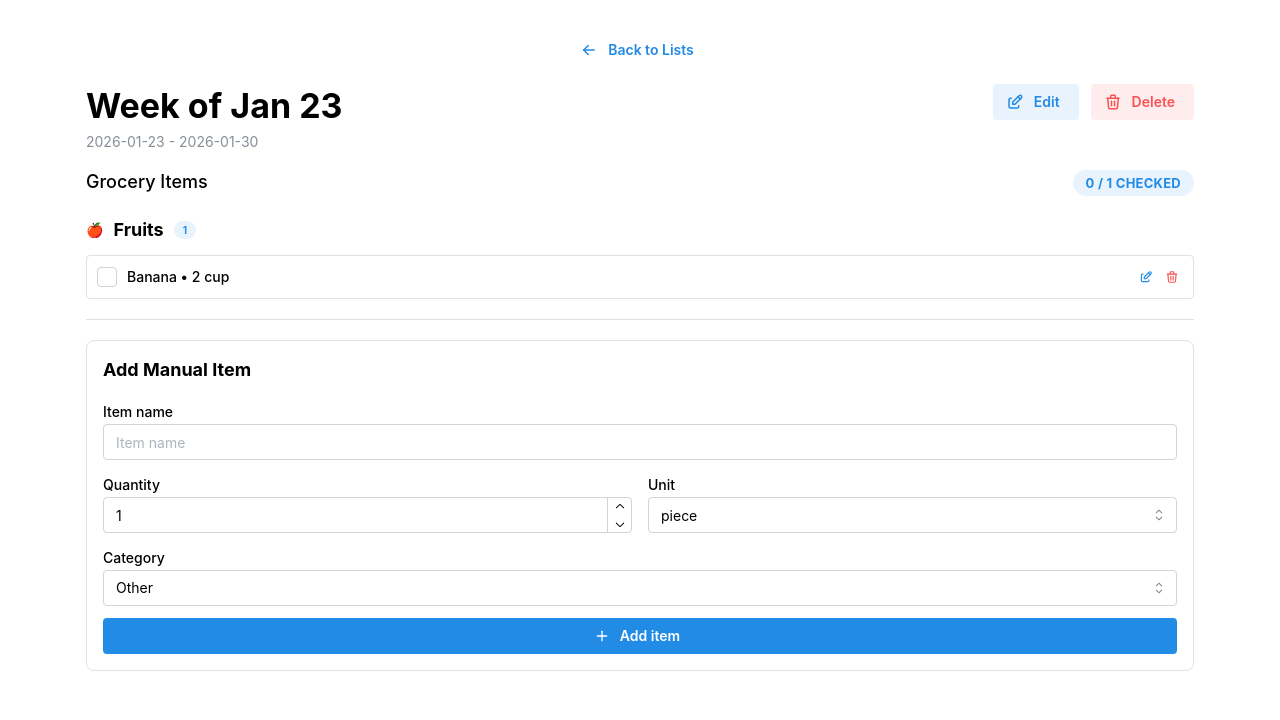
Test: GroceryListDetailPage › Edit List Name › should update list name when save is clicked
Click the button with test id "edit-list-button".
click(1036, 102)  # box [993,84,1079,120]
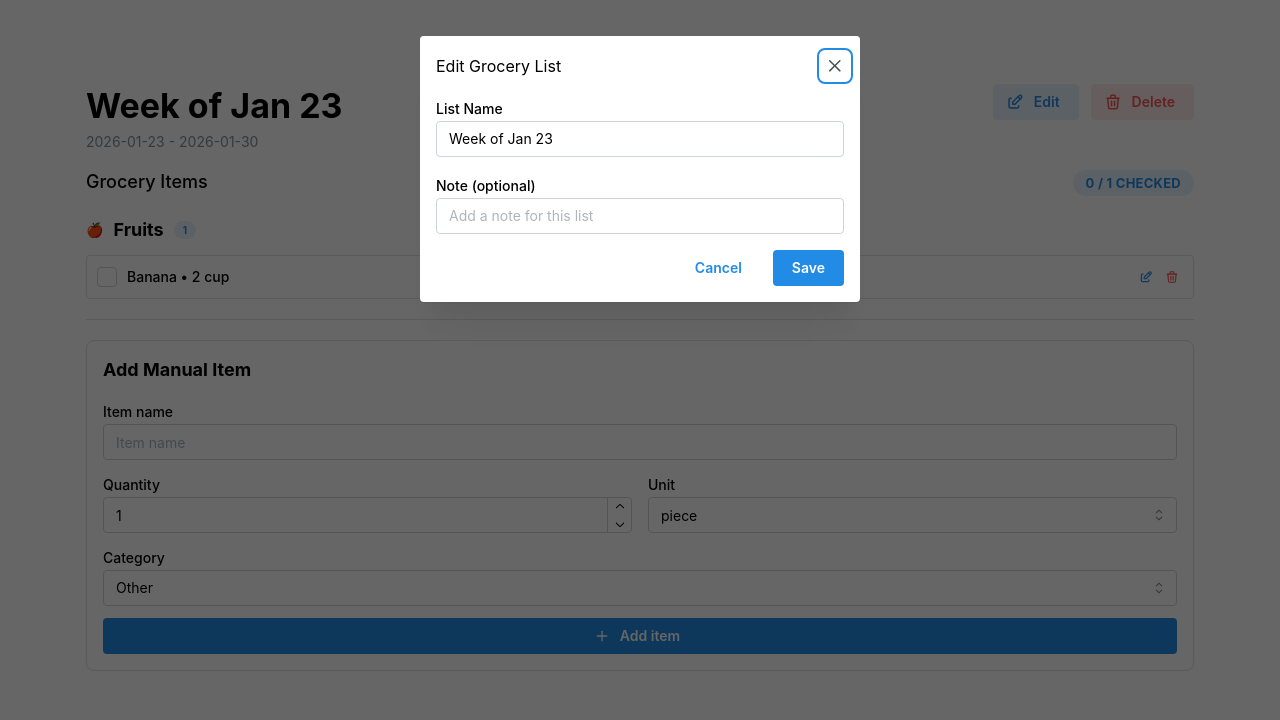
Expected: the heading "Edit Grocery List" is shown, [436,58,561,74]
Replace the text in the field labelled "List Name" with "New List Name" at (640, 139), box [436,121,844,157]
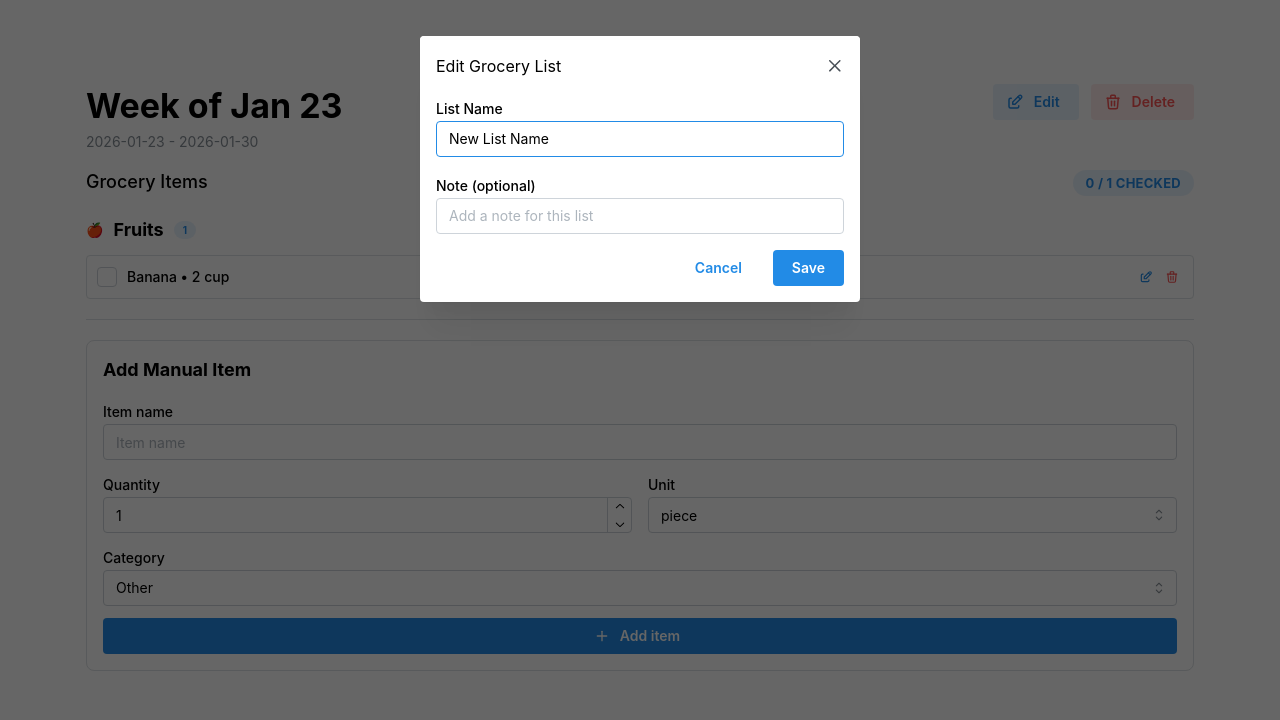
Click the button "Save".
click(808, 268)  # box [773,250,844,286]
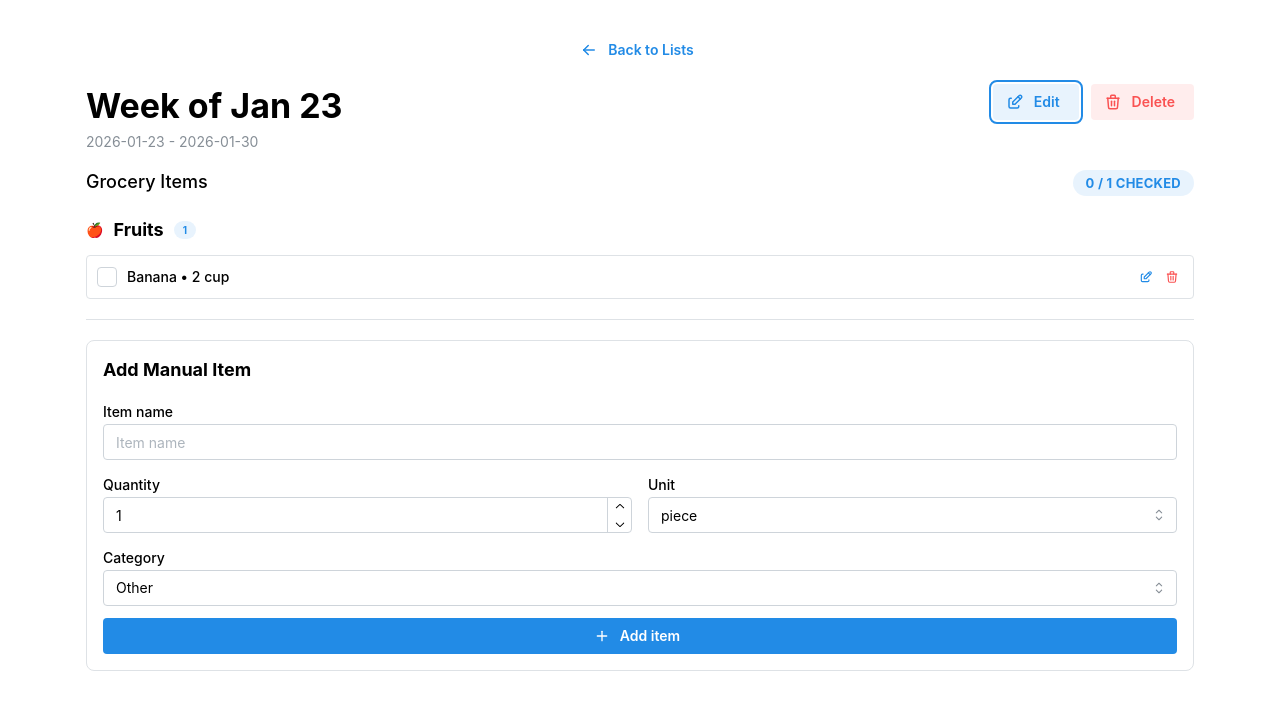
Expected: the heading "Edit Grocery List" is gone
